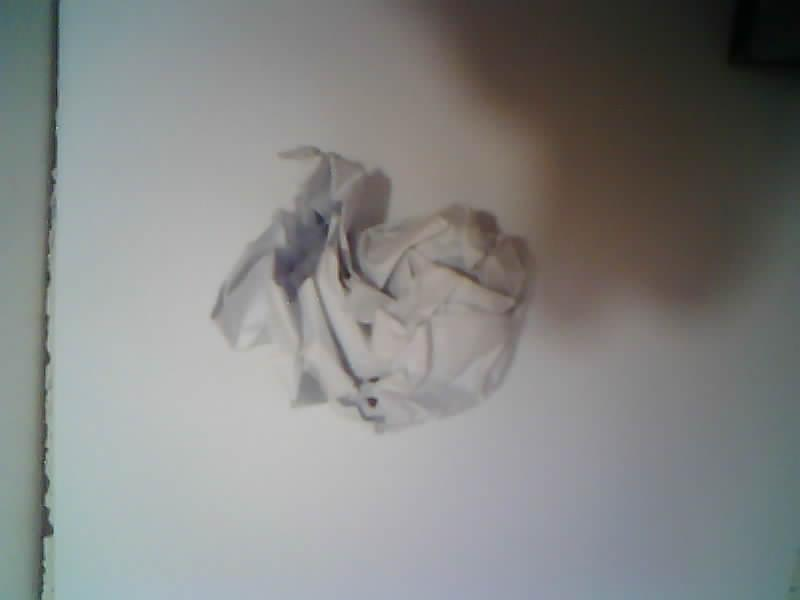biodegradable: (212, 148, 526, 433)
